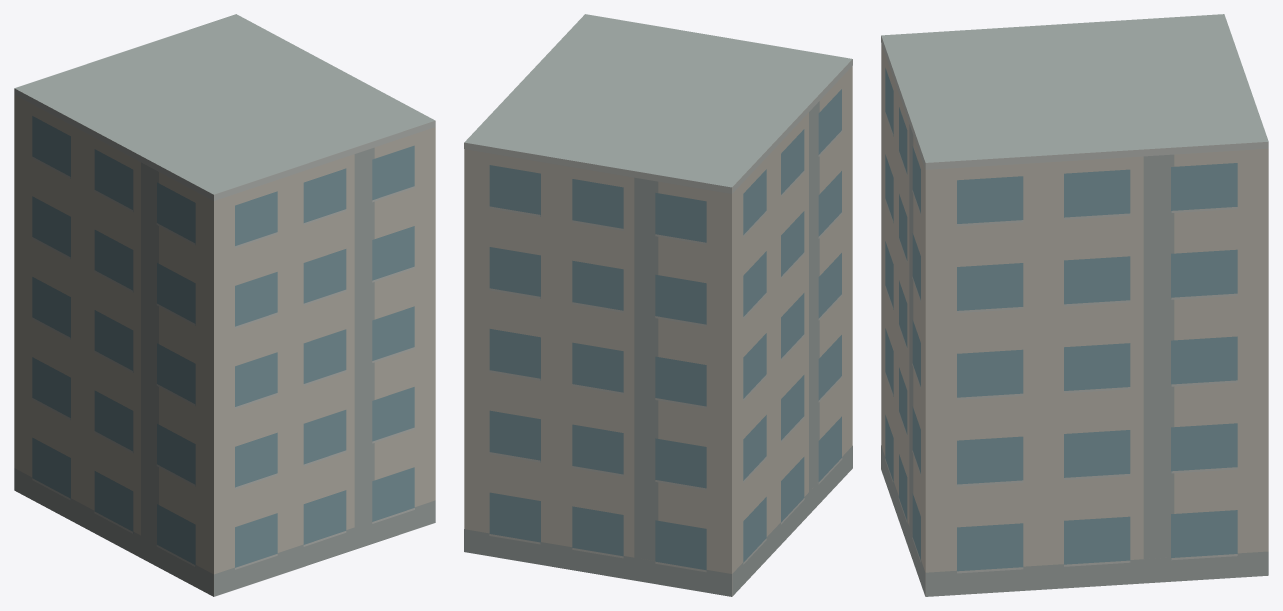
The model's file is residential-2cbba06e-bcfc-437a-b20d-6aa6bdddcfb4.glb.
3 views of the same model, side by side, from view 1: azimuth 30°, elevation 25°; view 2: azimuth 150°, elevation 25°; view 3: azimuth 270°, elevation 25° (orthographic). The views are drawn at different scales.
Parts seen in each view (by area): view 1: residential-2cbba06e-bcfc-437a-b20d-6aa6bdddcfb4.tmp; view 2: residential-2cbba06e-bcfc-437a-b20d-6aa6bdddcfb4.tmp; view 3: residential-2cbba06e-bcfc-437a-b20d-6aa6bdddcfb4.tmp.
Part boxes in pixels (x1,y1,x2,y2): residential-2cbba06e-bcfc-437a-b20d-6aa6bdddcfb4.tmp: [14, 14, 435, 596]; residential-2cbba06e-bcfc-437a-b20d-6aa6bdddcfb4.tmp: [464, 14, 852, 596]; residential-2cbba06e-bcfc-437a-b20d-6aa6bdddcfb4.tmp: [881, 14, 1268, 596].
Size of the model in its own units: 11.24 by 15.25 by 12.36.
